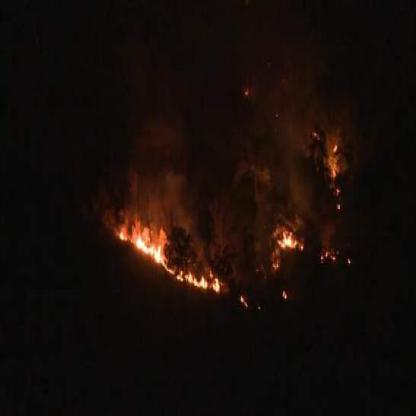fire: (112, 212, 222, 295), (270, 218, 308, 260), (326, 141, 342, 203)
